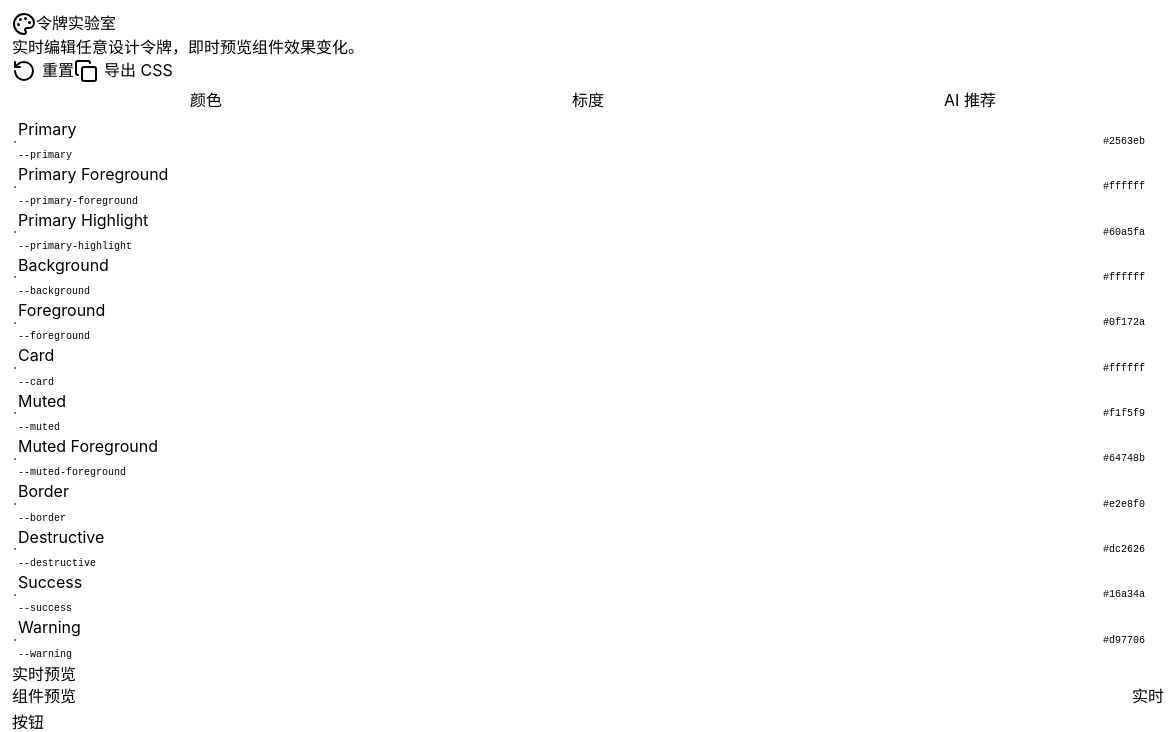
Scenario: Token Playground — Integration › switches to Scale tab and shows spacing system
Click the tab "标度": (588, 101) [397,86,779,115]
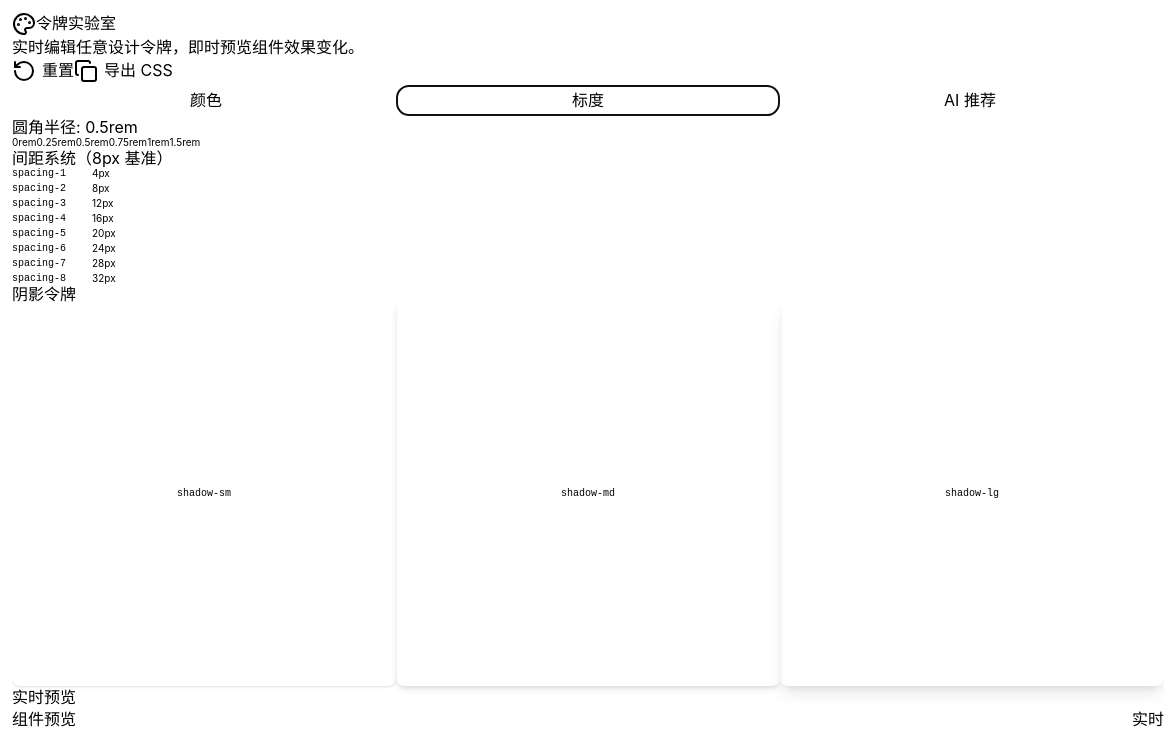
Check: the text "spacing-1" is shown, box [12,168,66,179]
